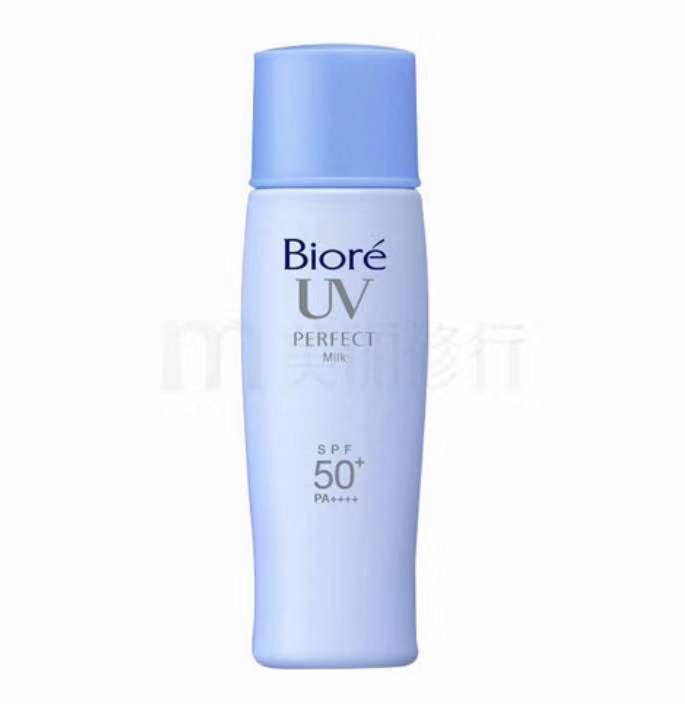cosmetic: (246, 54, 426, 663)
